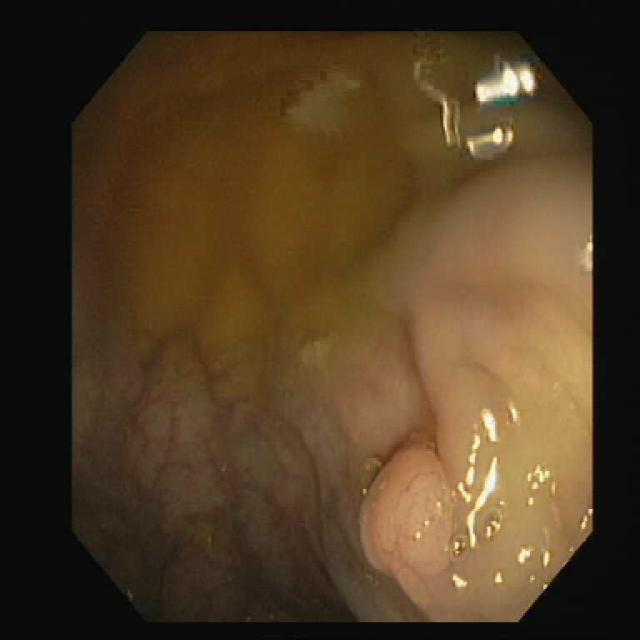tumor: (362, 436, 460, 620)
